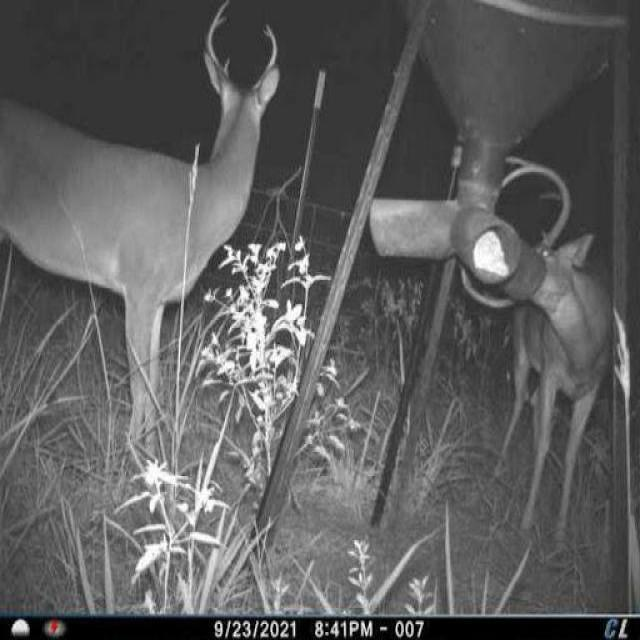deer: (0, 0, 286, 487), (465, 152, 615, 556)
